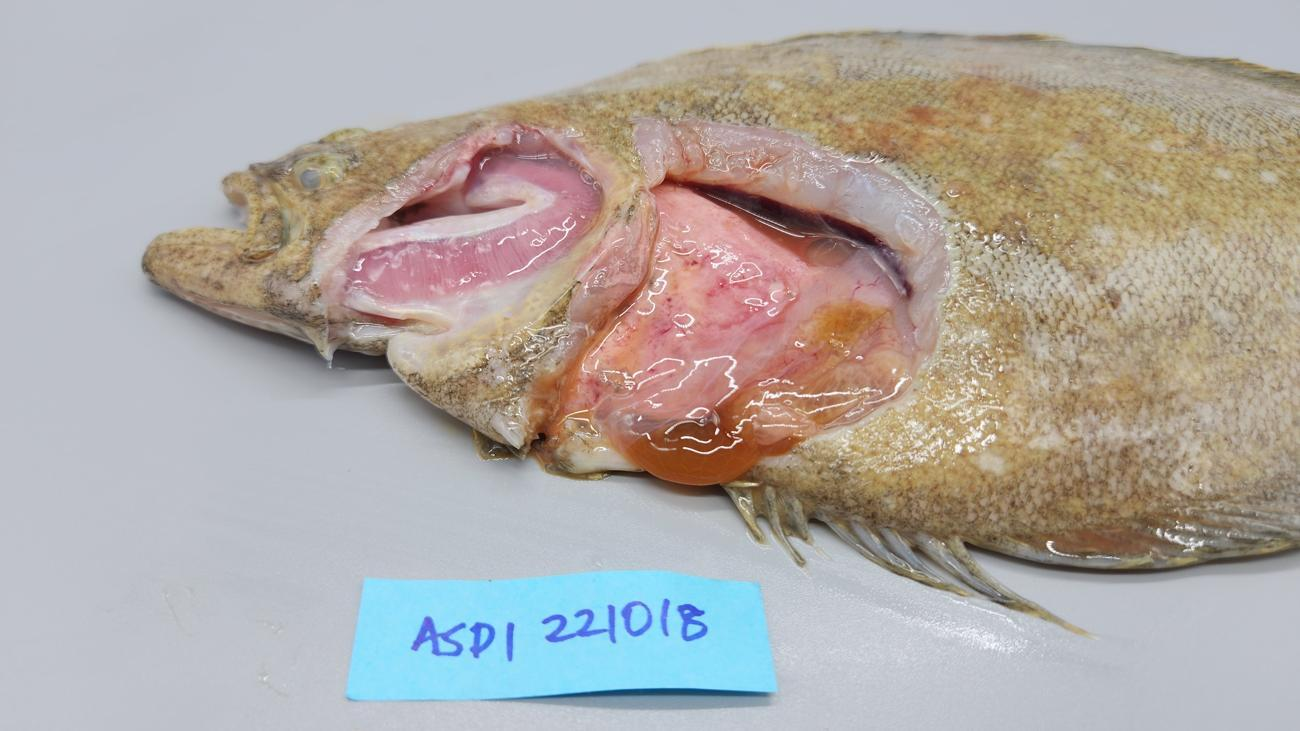SPGIP: (349, 152, 602, 301)
